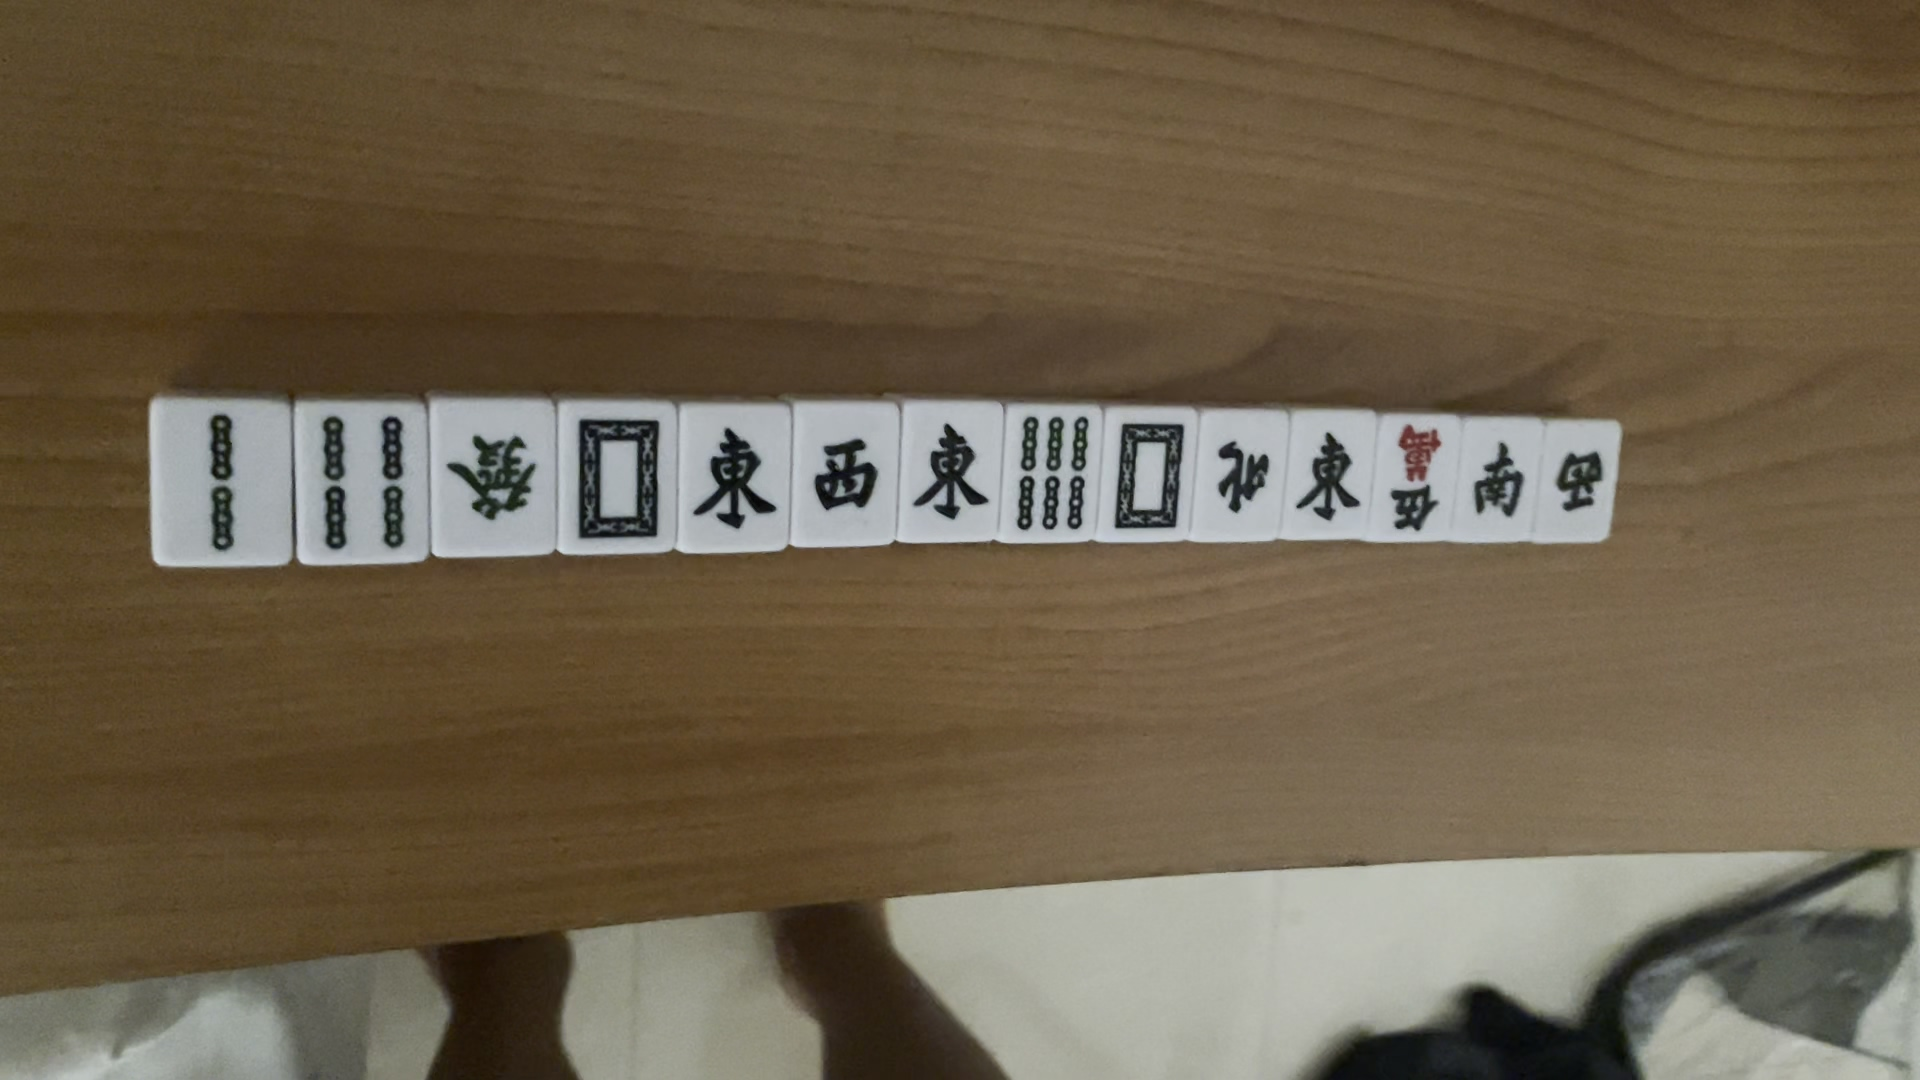b-2: (189, 406, 251, 566)
b-4: (302, 411, 419, 551)
b-6: (1009, 414, 1096, 541)
c-5: (1377, 422, 1449, 543)
honors-east: (684, 425, 777, 535), (913, 417, 992, 527), (1294, 430, 1365, 534)
honors-green: (438, 430, 545, 531)
honors-north: (1213, 430, 1276, 518)
honors-south: (1465, 440, 1528, 524)
honors-west: (808, 425, 884, 518), (1551, 443, 1607, 522)
honors-white: (568, 405, 669, 551), (1109, 417, 1185, 537)
